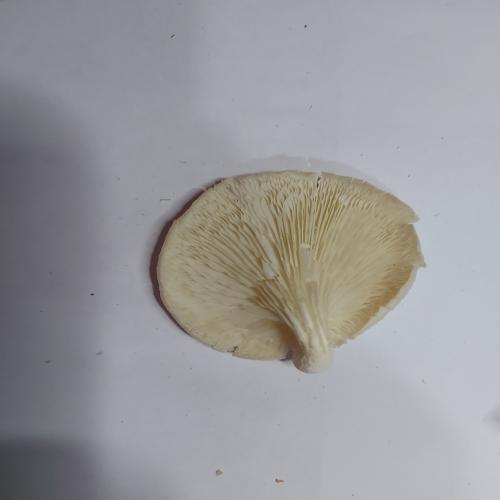Oyster Mushroom: (155, 168, 426, 374)
